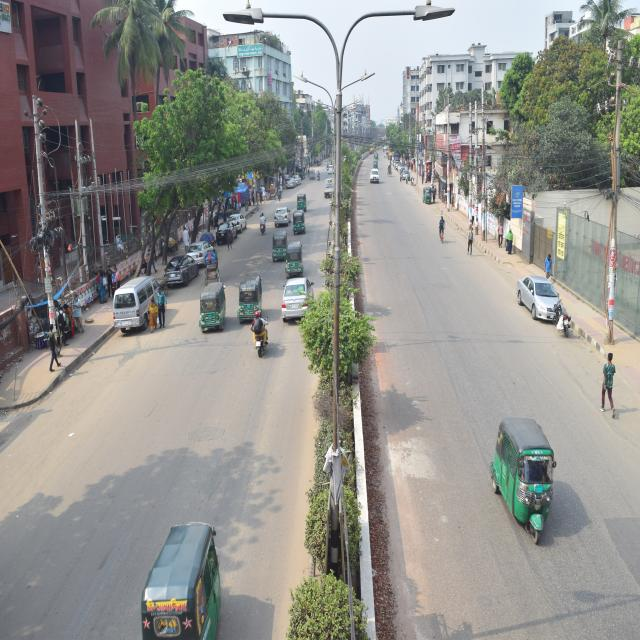car: (516, 267, 566, 324), (279, 275, 320, 337), (160, 252, 201, 294), (185, 235, 218, 271), (227, 198, 251, 238), (212, 216, 240, 245), (270, 195, 294, 225), (369, 166, 381, 184)
microbus: (102, 275, 169, 329)
motorbike: (248, 311, 279, 354), (548, 297, 576, 340), (256, 212, 272, 240)
